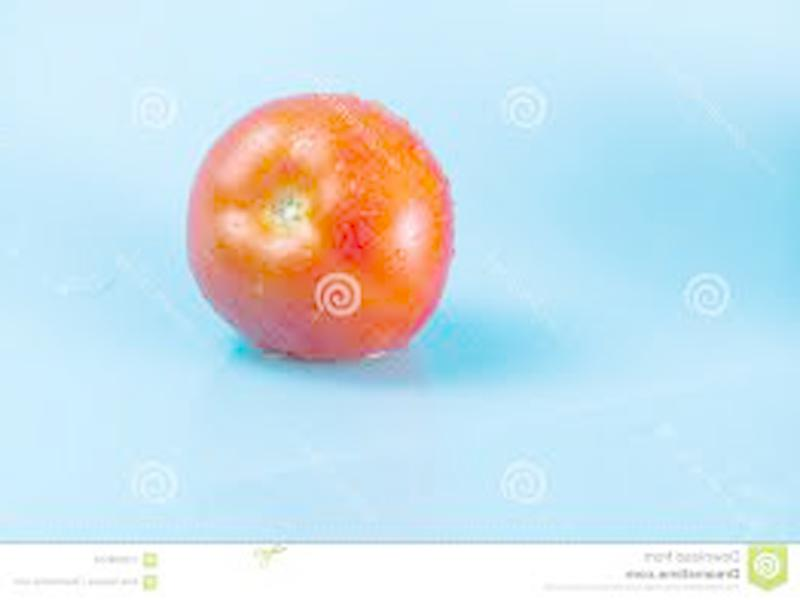Tomato: (182, 93, 454, 358)
